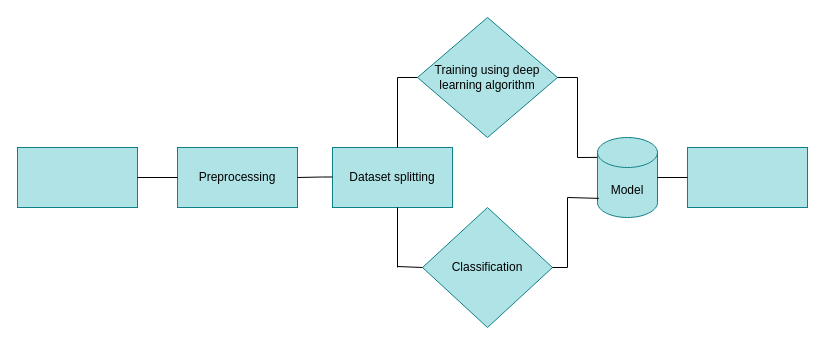
Some shapes in this 825 by 345 pixel diagram are drawn without their labels. Here are the shapes that lost their labels. From the top down, the box of each, then its label:
(16, 146, 138, 208): INPUT CURRENCY NOTE
(686, 146, 808, 208): Output Real/Fake
